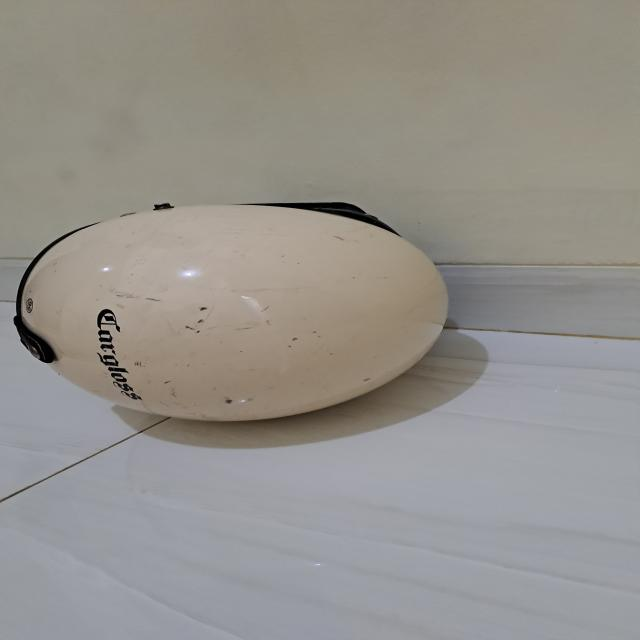Helm: (7, 188, 466, 412)
